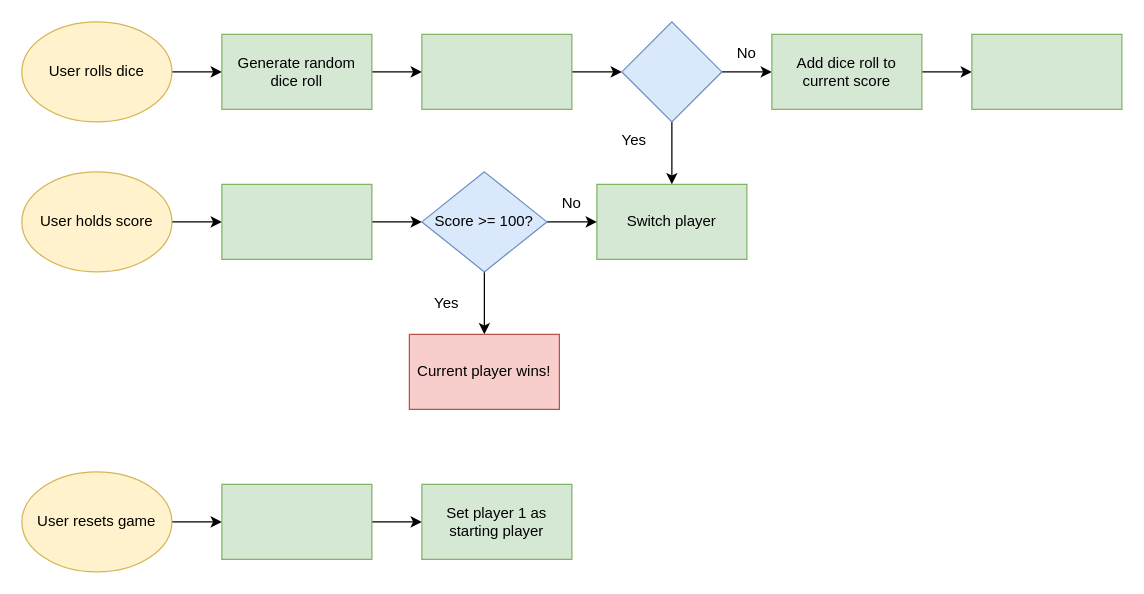
Image size: 1144x594. Some labels were removed from this diagram. The centre of each missing label's shape, as x and y in pixels:
"Add current score to total score" belongs at [296,221].
"Display dice roll" belongs at [496,71].
"Display new score" belongs at [1046,71].
"Is it a 1?" belongs at [671,71].
"Set all scores to 0" belongs at [296,521].
